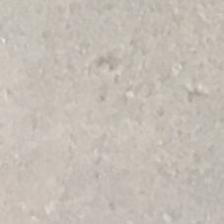Non_Crack: (7, 4, 220, 223)
